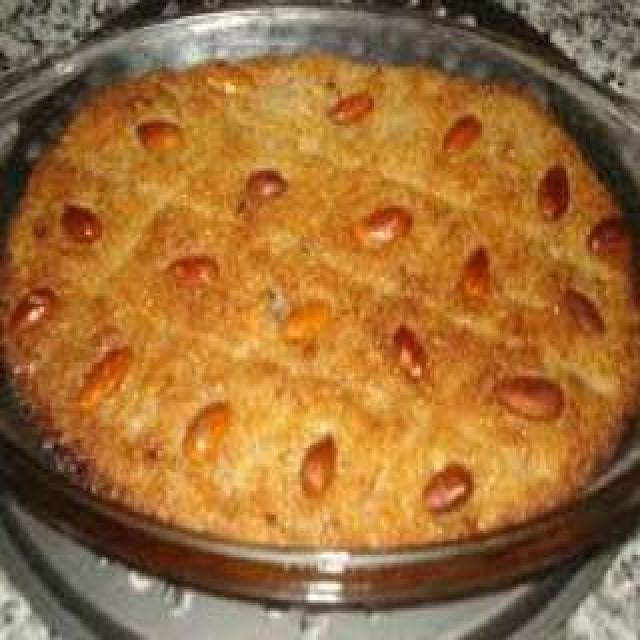pasposa: (0, 35, 640, 560)
